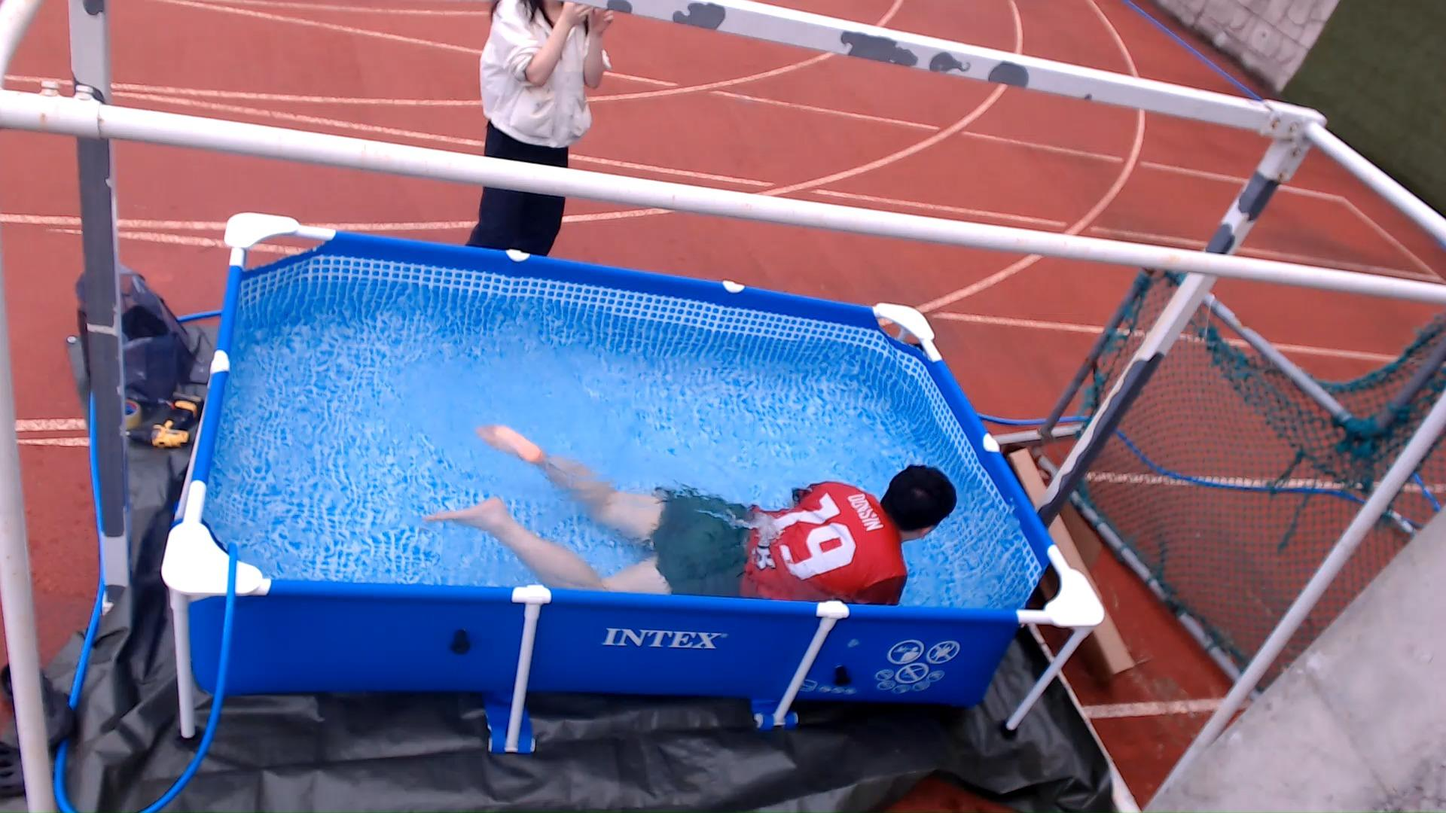Person-out-of-water: (477, 0, 623, 308)
Swimming: (394, 404, 994, 623)
